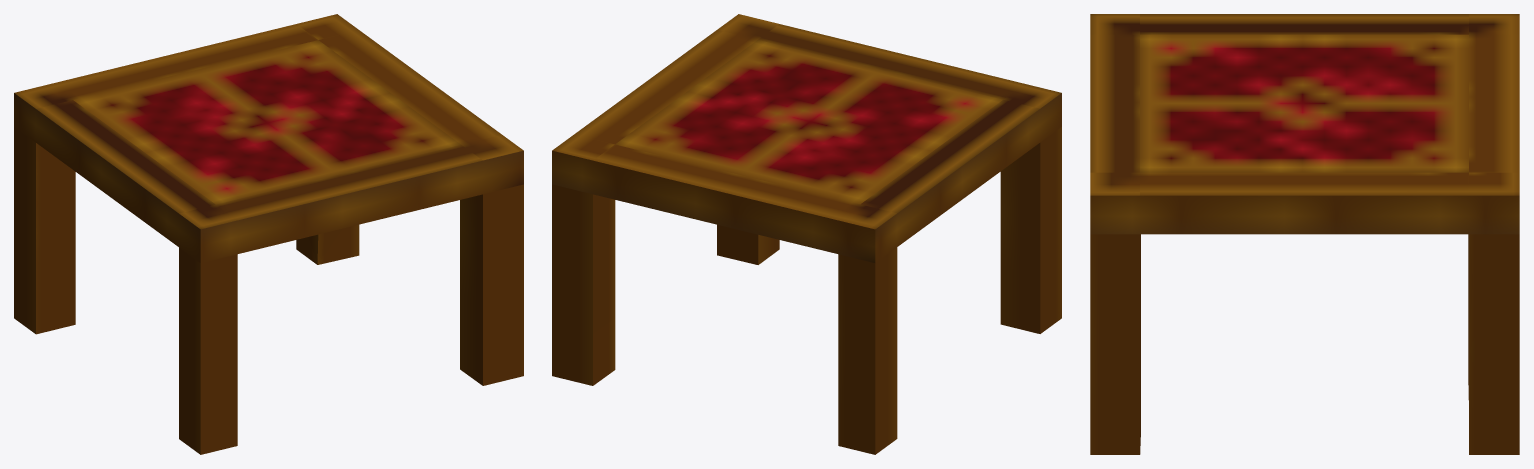
File: Table_633x0.obj
The picture shows the model from 3 angles, left to right: view 1: azimuth 30°, elevation 25°; view 2: azimuth 150°, elevation 25°; view 3: azimuth 270°, elevation 25°; orthographic projection. The views are drawn at different scales.
Visible parts, largest first — view 1: Table_633x0; view 2: Table_633x0; view 3: Table_633x0.
Part boxes in pixels (x1=…): Table_633x0: x1=14, y1=14, x2=523, y2=454; Table_633x0: x1=552, y1=14, x2=1061, y2=454; Table_633x0: x1=1090, y1=14, x2=1519, y2=454.
Bounding box in the file's own units: 3 × 2 × 3.
